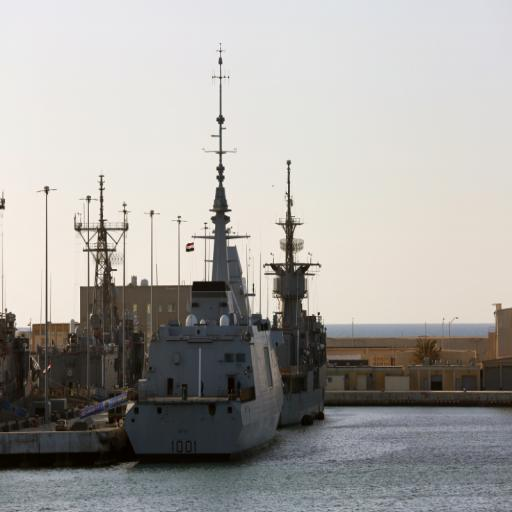Fragata: (119, 42, 283, 463), (262, 161, 330, 426)
